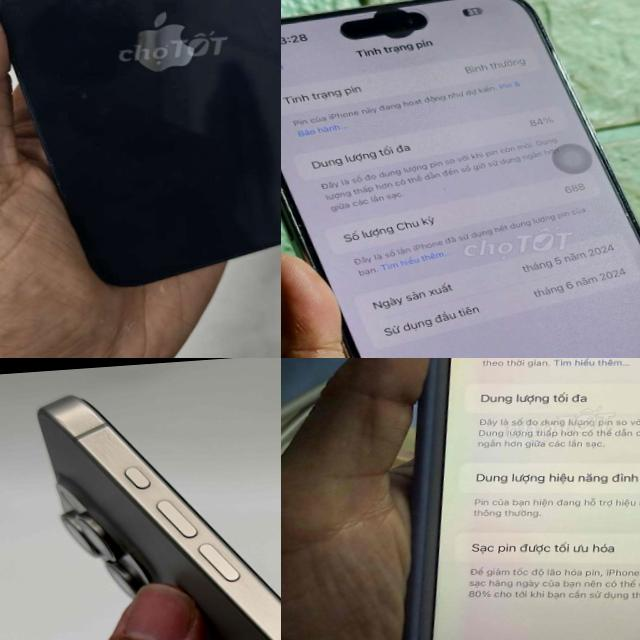gen_12_13: (0, 0, 281, 303)
gen_15: (281, 0, 640, 358), (28, 358, 281, 640)
gen_7_8: (346, 358, 640, 640)
scratch: (15, 86, 89, 208), (49, 72, 142, 131)
screen_defect: (322, 0, 447, 50)
